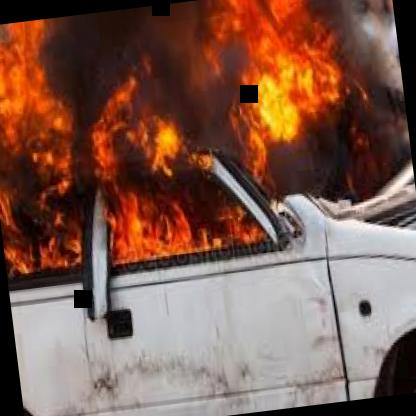fire: (0, 0, 349, 290)
